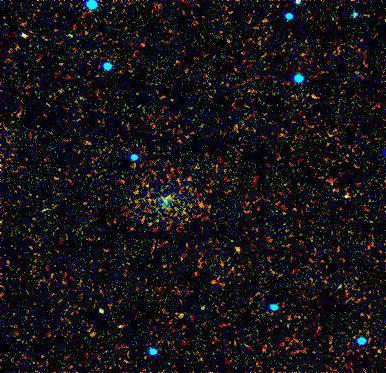star: (224, 233, 254, 263)
